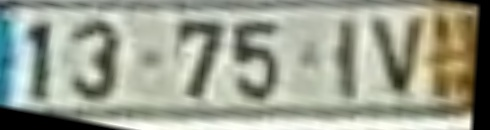1: (19, 20, 55, 109)
3: (67, 18, 124, 110)
5: (231, 20, 284, 108)
7: (174, 19, 229, 107)
I: (335, 15, 364, 106)
V: (364, 14, 430, 100)
